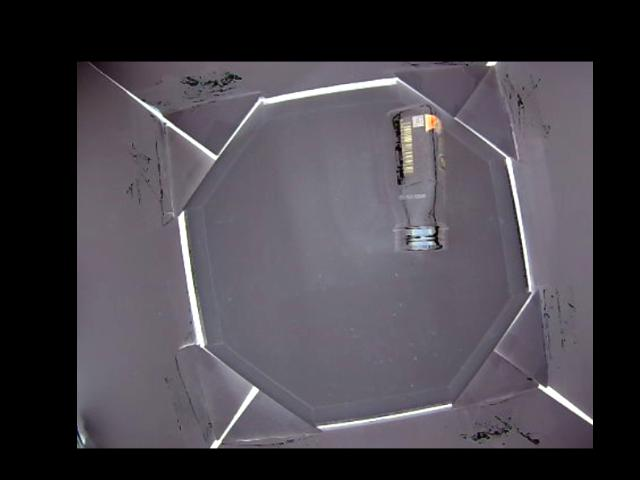Bottle: (386, 105, 448, 254)
